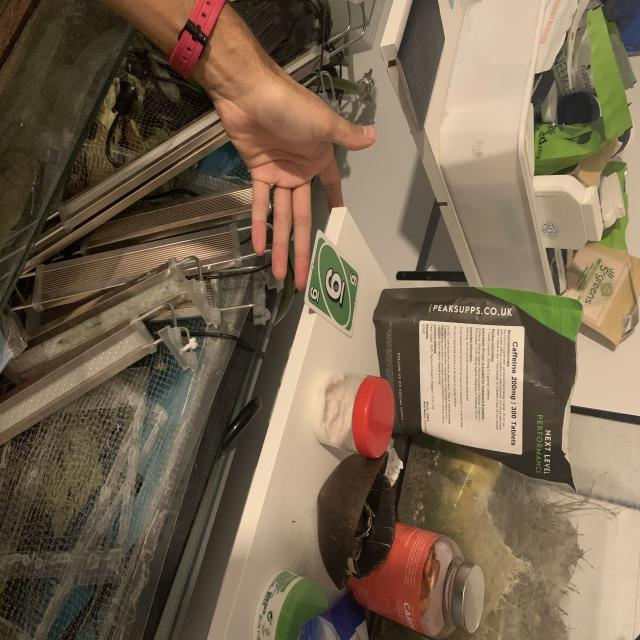lgreen-6: (309, 284, 321, 305)
